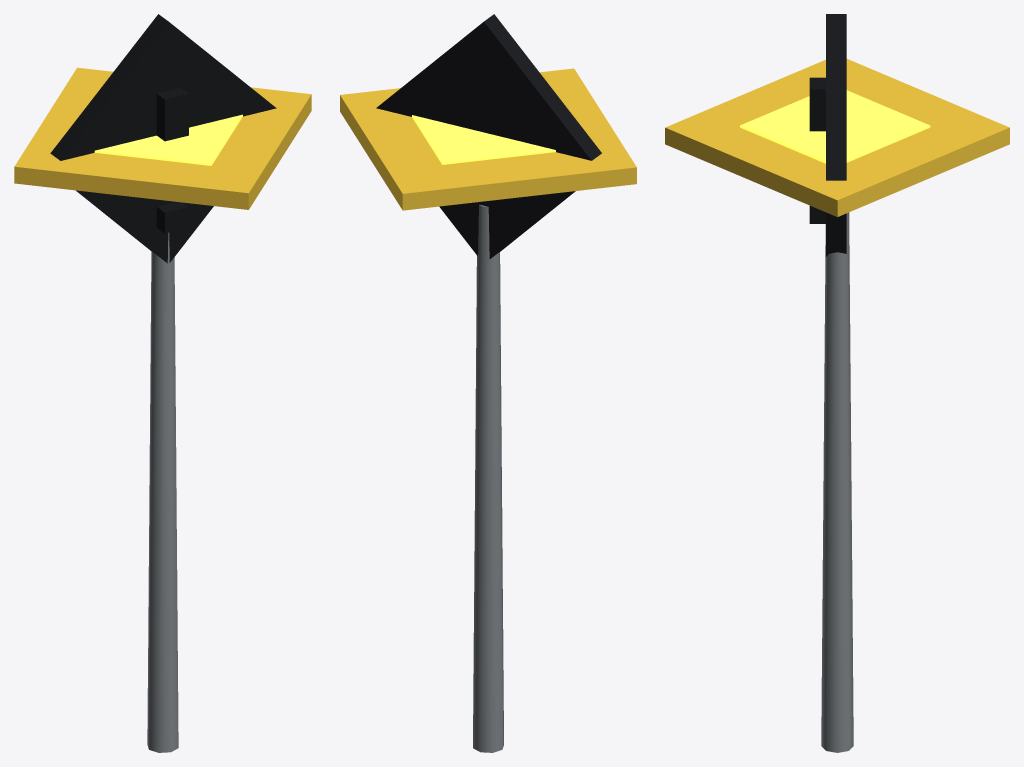
The model's file is warning-sign.glb.
The picture shows the model from 3 angles, left to right: view 1: azimuth 30°, elevation 25°; view 2: azimuth 150°, elevation 25°; view 3: azimuth 270°, elevation 25°; orthographic projection.
Parts seen in each view (by area): view 1: warning-sign; view 2: warning-sign; view 3: warning-sign.
Part boxes in pixels (x1=…): warning-sign: x1=14, y1=14, x2=311, y2=752; warning-sign: x1=340, y1=14, x2=636, y2=752; warning-sign: x1=665, y1=14, x2=1009, y2=752.
Size of the model in its own units: 1.48 by 3.48 by 1.48.
